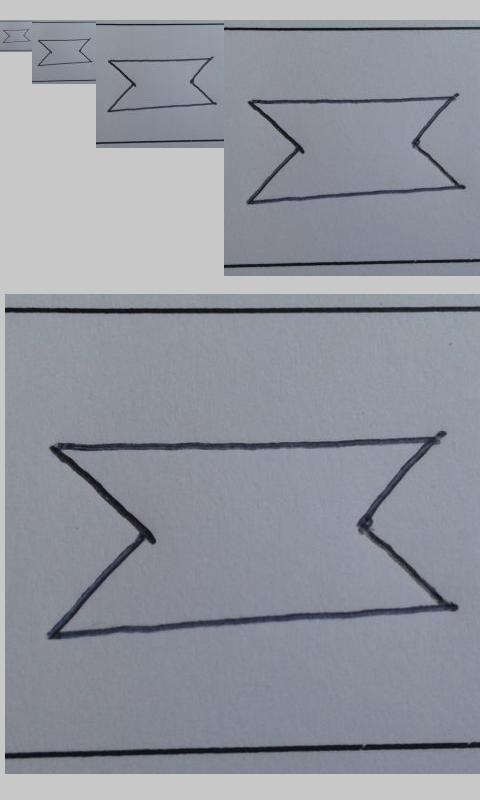edit_text: (47, 437, 452, 642), (247, 94, 463, 207), (106, 57, 215, 113), (37, 39, 92, 67), (3, 29, 30, 43)
